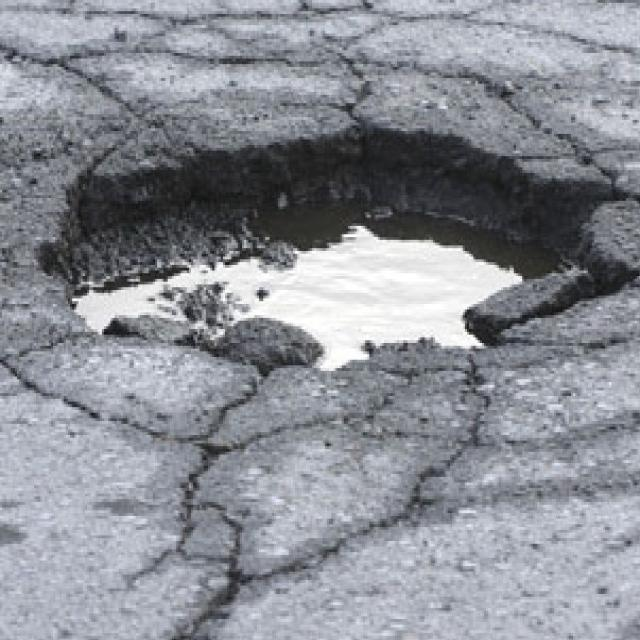road-pothole: (27, 121, 639, 373)
